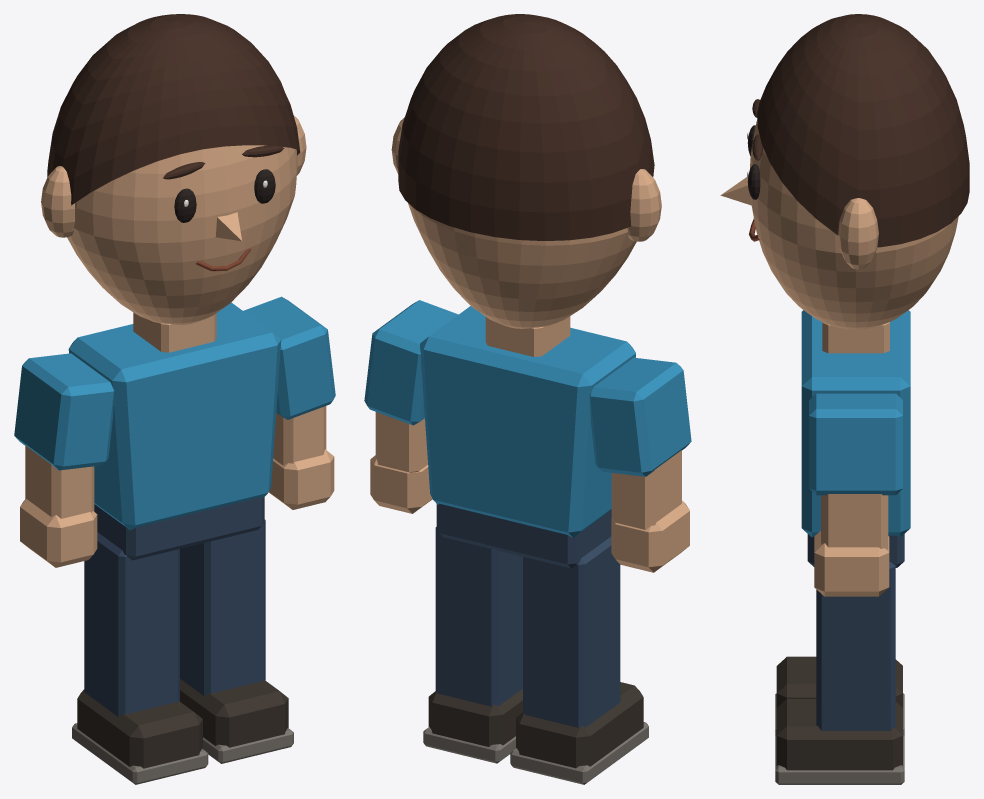
File: avatar-mii-kenney-01.glb
The picture shows the model from 3 angles, left to right: view 1: azimuth 30°, elevation 25°; view 2: azimuth 150°, elevation 25°; view 3: azimuth 270°, elevation 25°; orthographic projection.
Visible parts, largest first — view 1: Corpo_01, Cabelo_01, Cabeca_01, Perna_L, Perna_R, Manga, Sapato_L, Manga.001, Quadril, Sapato_R, Mao, Antebraco (+9 smaller); view 2: Cabelo_01, Corpo_01, Perna_L, Cabeca_01, Perna_R, Manga, Manga.001, Quadril, Sapato_L, Sapato_R, Antebraco, Mao (+6 smaller); view 3: Cabelo_01, Cabeca_01, Perna_R, Corpo_01, Manga.001, Sapato_R, Mao.001, Antebraco.001, Orelha_R, Sola.001, Sapato_L, Pescoco (+2 smaller).
Boxes of the visible parts, left/top/right/bottom form: Corpo_01: left=68, top=302, right=281, bottom=530; Cabelo_01: left=47, top=14, right=300, bottom=205; Cabeca_01: left=67, top=145, right=297, bottom=324; Perna_L: left=84, top=532, right=179, bottom=716; Perna_R: left=180, top=519, right=265, bottom=695; Manga: left=14, top=353, right=114, bottom=470; Sapato_L: left=77, top=689, right=202, bottom=768; Manga.001: left=243, top=296, right=335, bottom=419; Quadril: left=94, top=497, right=264, bottom=560; Sapato_R: left=180, top=679, right=288, bottom=747; Mao: left=20, top=499, right=97, bottom=567; Antebraco: left=25, top=445, right=94, bottom=518; Cabelo_01: left=398, top=14, right=654, bottom=240; Corpo_01: left=420, top=306, right=635, bottom=537; Perna_L: left=523, top=536, right=620, bottom=727; Cabeca_01: left=408, top=203, right=636, bottom=328; Perna_R: left=435, top=527, right=522, bottom=706; Manga: left=589, top=357, right=691, bottom=476; Manga.001: left=364, top=300, right=458, bottom=425; Quadril: left=436, top=503, right=611, bottom=568; Sapato_L: left=516, top=682, right=643, bottom=768; Sapato_R: left=428, top=689, right=522, bottom=746; Antebraco: left=611, top=450, right=681, bottom=529; Mao: left=611, top=500, right=689, bottom=572; Cabelo_01: left=757, top=14, right=969, bottom=247; Cabeca_01: left=750, top=120, right=958, bottom=329; Perna_R: left=816, top=562, right=895, bottom=730; Corpo_01: left=801, top=310, right=910, bottom=537; Manga.001: left=809, top=393, right=902, bottom=495; Sapato_R: left=776, top=699, right=902, bottom=770; Mao.001: left=814, top=531, right=889, bottom=596; Antebraco.001: left=821, top=494, right=888, bottom=549; Orelha_R: left=838, top=198, right=878, bottom=269; Sola.001: left=775, top=735, right=904, bottom=784; Sapato_L: left=776, top=656, right=902, bottom=707; Pescoco: left=822, top=322, right=889, bottom=353.
Bounding box in the file's own units: 1.14 × 2.71 × 0.8483.
